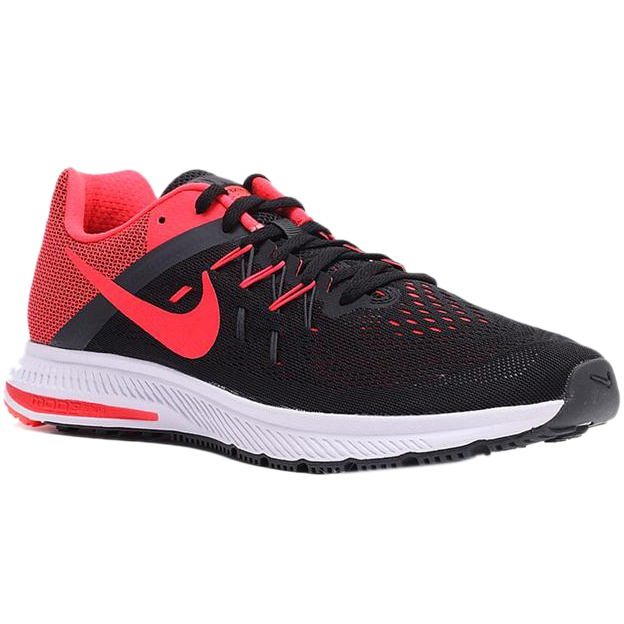Nike: (61, 246, 223, 363)
